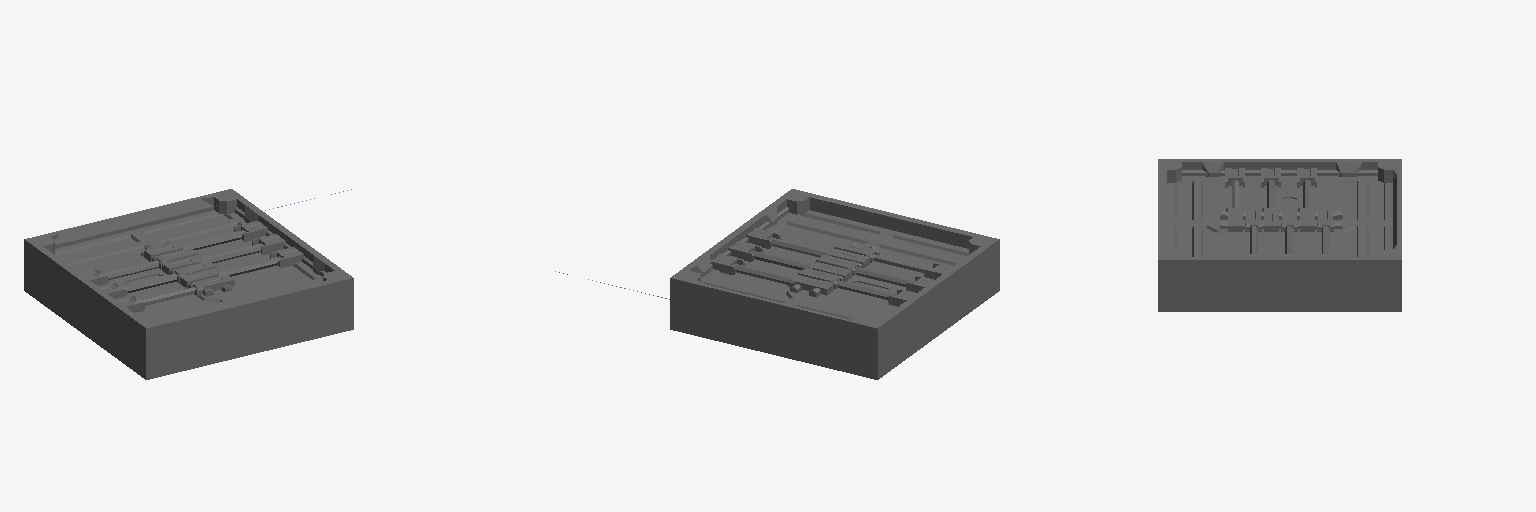
The model's file is bdoor2.obj.
3 views of the same model, side by side, from view 1: azimuth 30°, elevation 25°; view 2: azimuth 150°, elevation 25°; view 3: azimuth 270°, elevation 25° (orthographic).
Parts seen in each view (by area): view 1: Mesh.001_Bunker_Door.001; view 2: Mesh.001_Bunker_Door.001; view 3: Mesh.001_Bunker_Door.001.
Part boxes in pixels (x1,y1,x2,y2): Mesh.001_Bunker_Door.001: (24, 189, 353, 379); Mesh.001_Bunker_Door.001: (670, 189, 999, 379); Mesh.001_Bunker_Door.001: (1158, 159, 1401, 311).
Size of the model in its own units: 621 by 132 by 385.